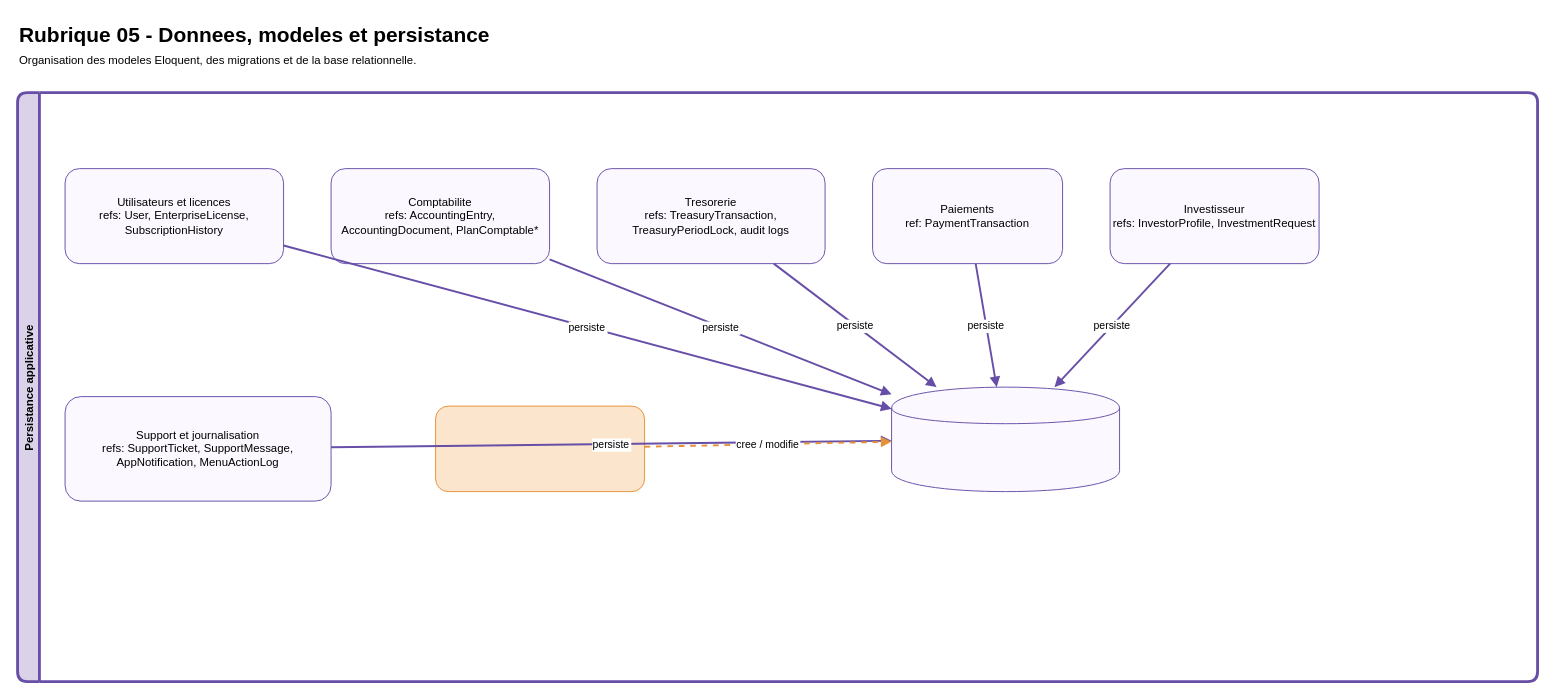
This 1555x699 diagram has some shape labels left out. Each missing label, with the centre of its shape:
"Base de donnees relationnelle ref: tables applicatives" belongs at point 1005,439.
"Migrations de schema ref: database/migrations" belongs at point 540,448.
